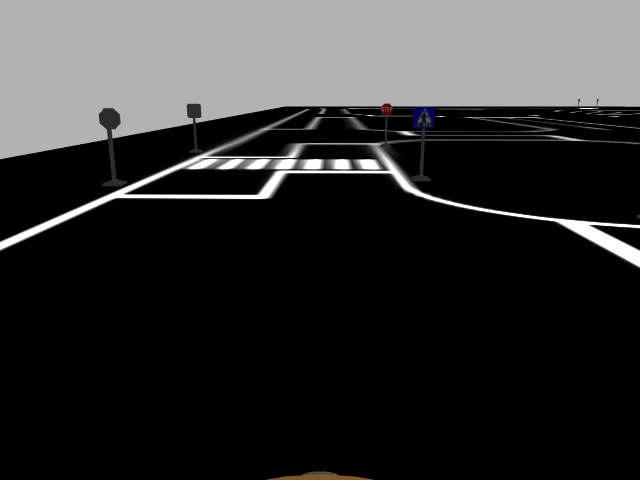crosswalk: (413, 104, 434, 129)
